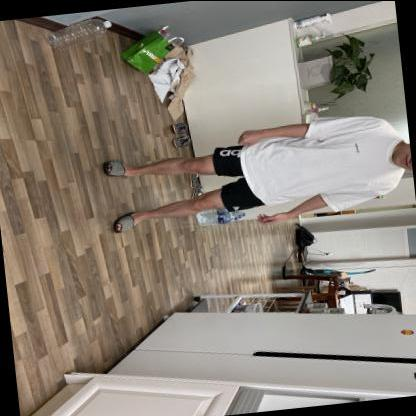no_safety-shoe: (93, 147, 142, 184), (103, 200, 149, 239)
